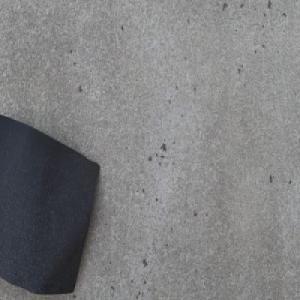PaintChip: (0, 110, 101, 294)
